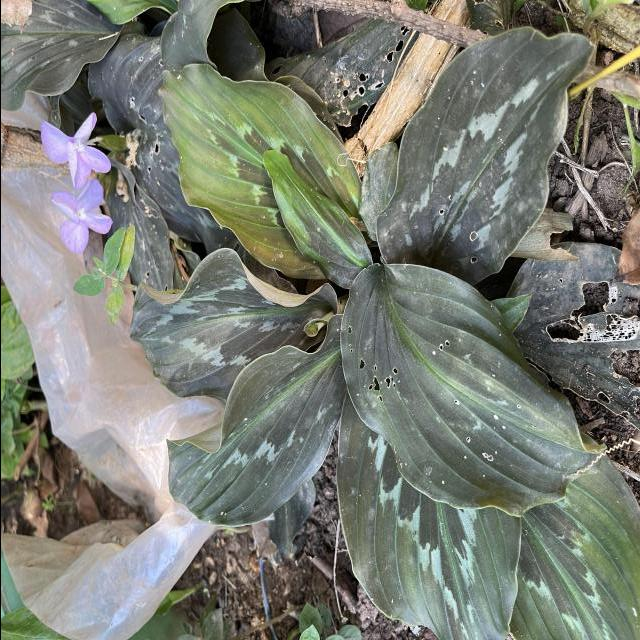Kaempferia galanga linn: (337, 260, 608, 520), (372, 24, 596, 288), (332, 384, 524, 640), (156, 60, 367, 282), (160, 312, 347, 530), (127, 245, 340, 409), (258, 148, 374, 292)
